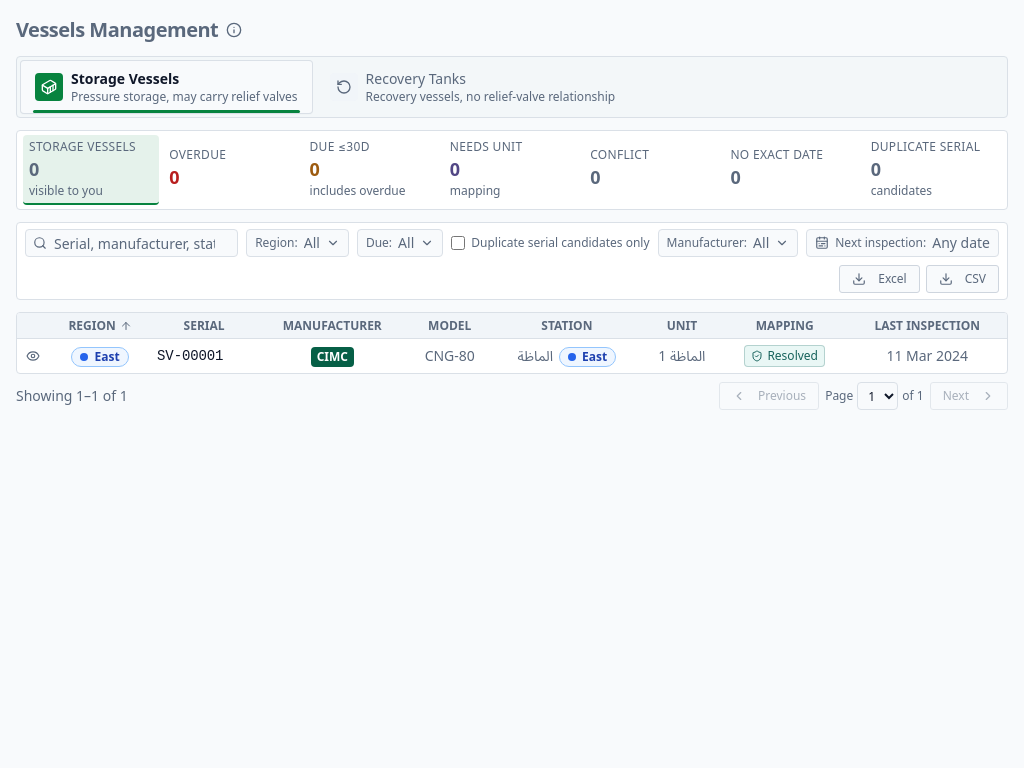
Scenario: Related SRVs › lists relief valves for a storage vessel from the confirmed relationship
The image size is (1024, 768).
Click the button named "show the full technical record" at (33, 356), box [23,346,43,366]
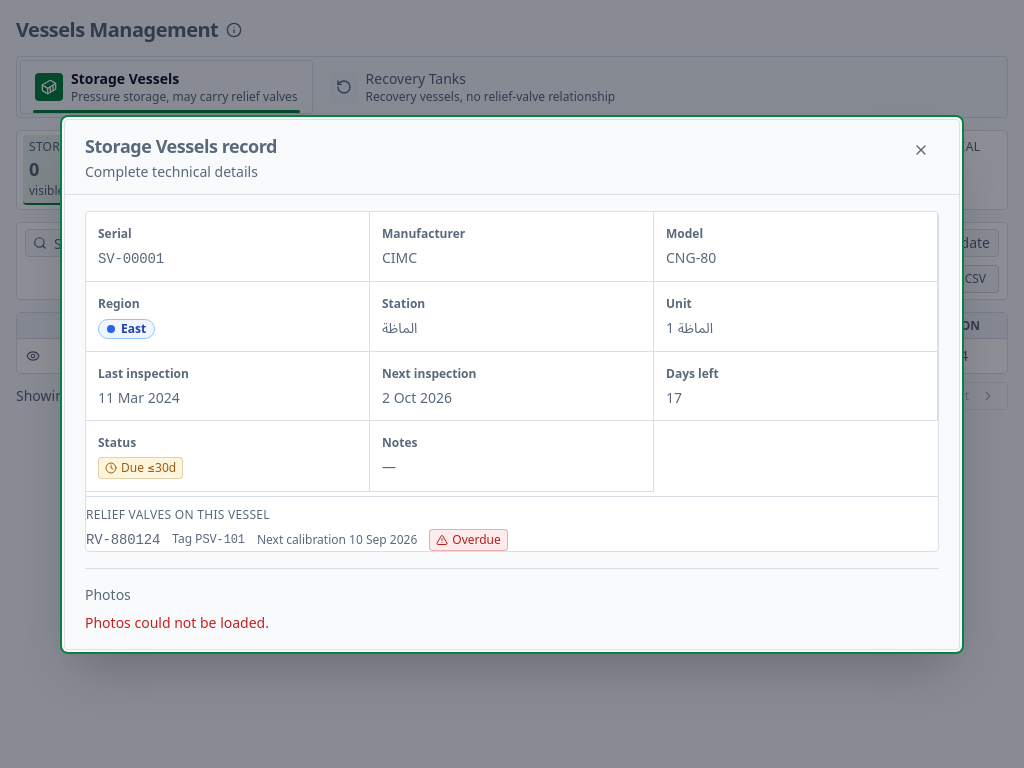
Result: the heading "Relief valves on this vessel" is shown at [86,506,270,522]
Result: the text "RV-880124" is shown at [86,530,160,550]
